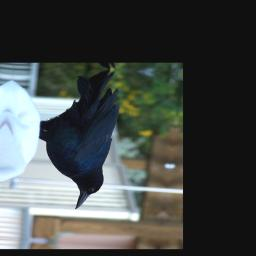Crow: (29, 67, 125, 212)
